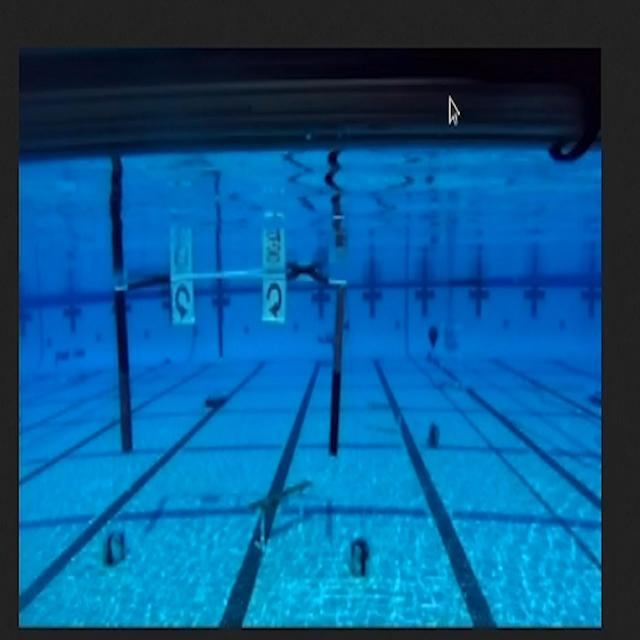Gate: (110, 276, 349, 466)
